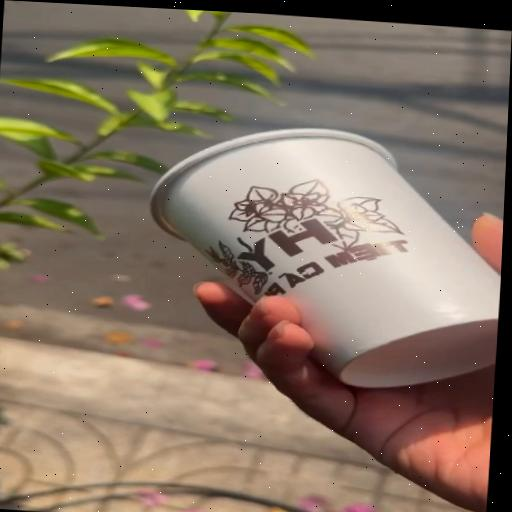Ly_giay: (151, 128, 501, 388)
